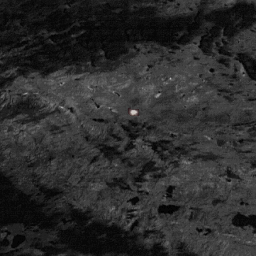Target: (128, 107, 137, 117)
